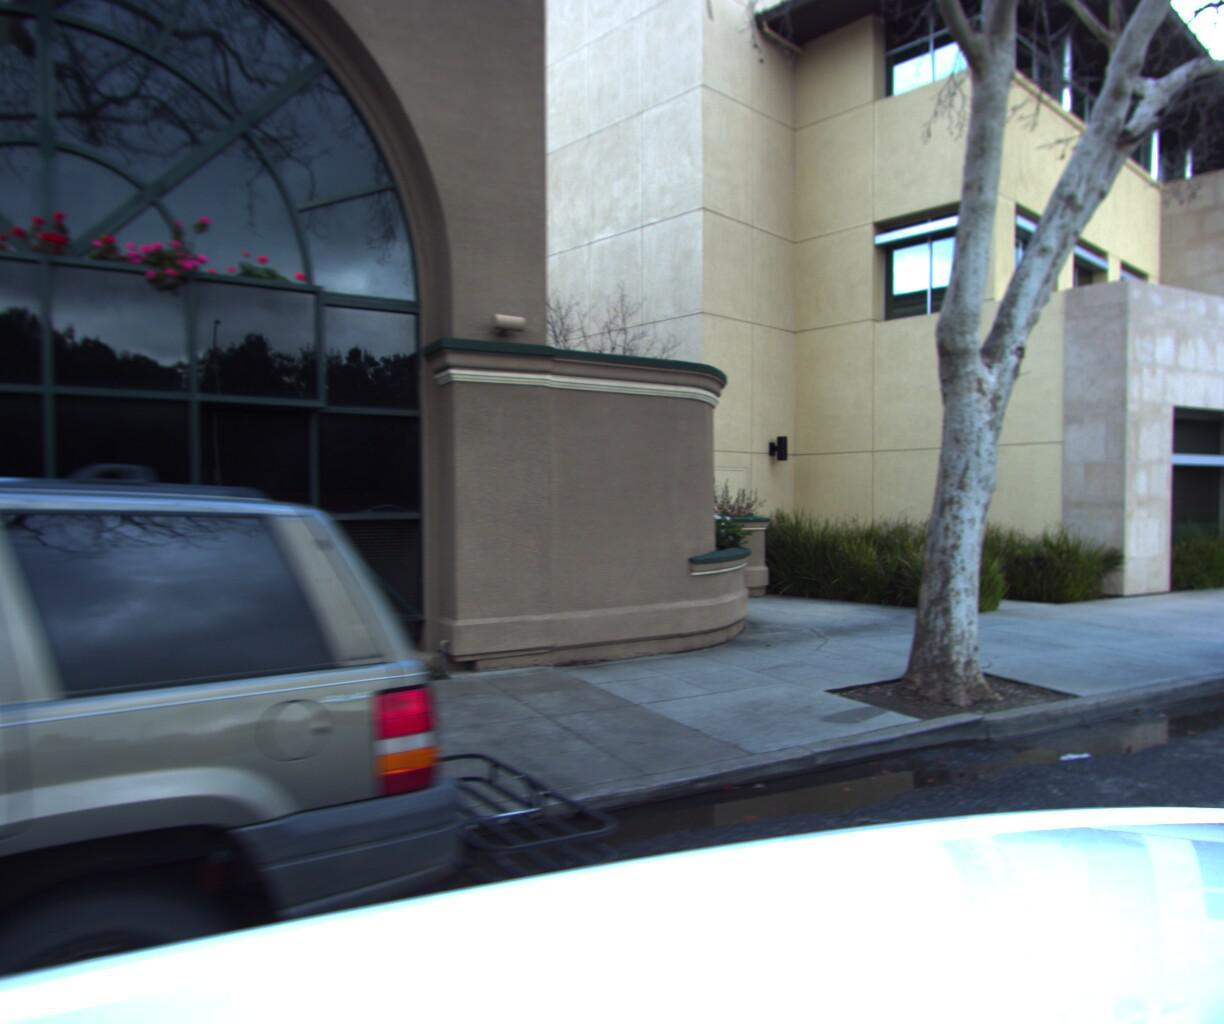car: (0, 384, 669, 1024)
